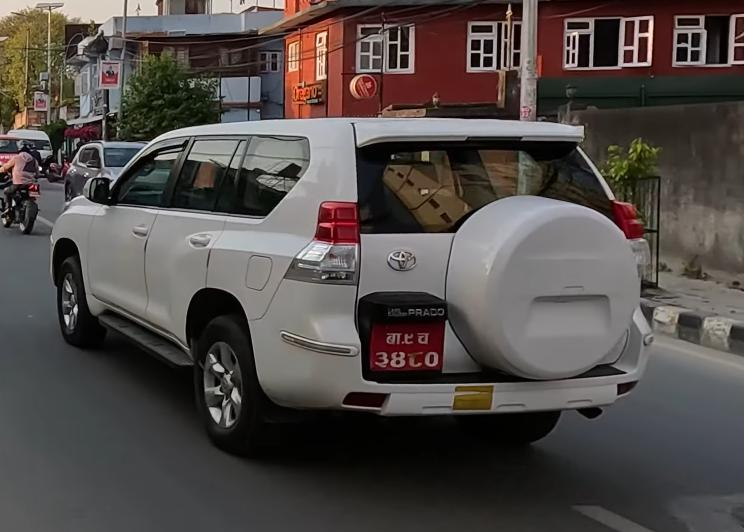SUV: (45, 112, 665, 460)
bike: (0, 175, 45, 235)
car: (57, 132, 145, 197)
